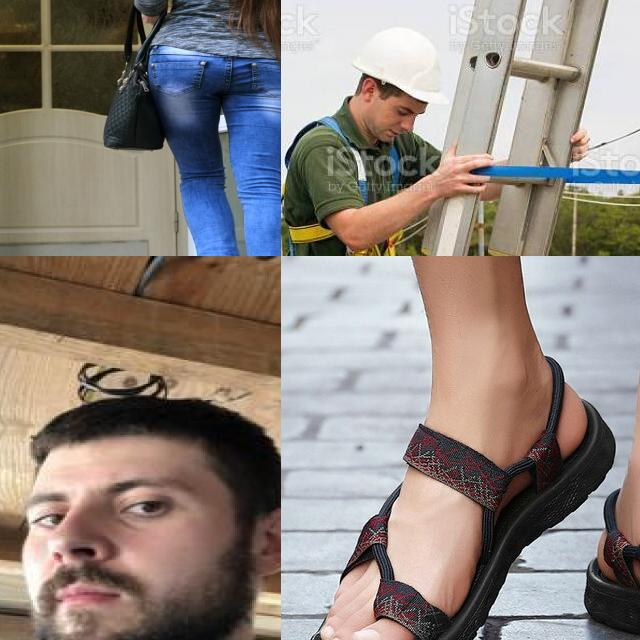No_Ear-Protection: (232, 494, 281, 583)
No_Glasses: (5, 476, 220, 548)
Sandals: (310, 331, 616, 640)
face_nomask: (20, 470, 220, 640)
head_nohelmet: (25, 392, 222, 467)
person: (0, 403, 281, 640)
